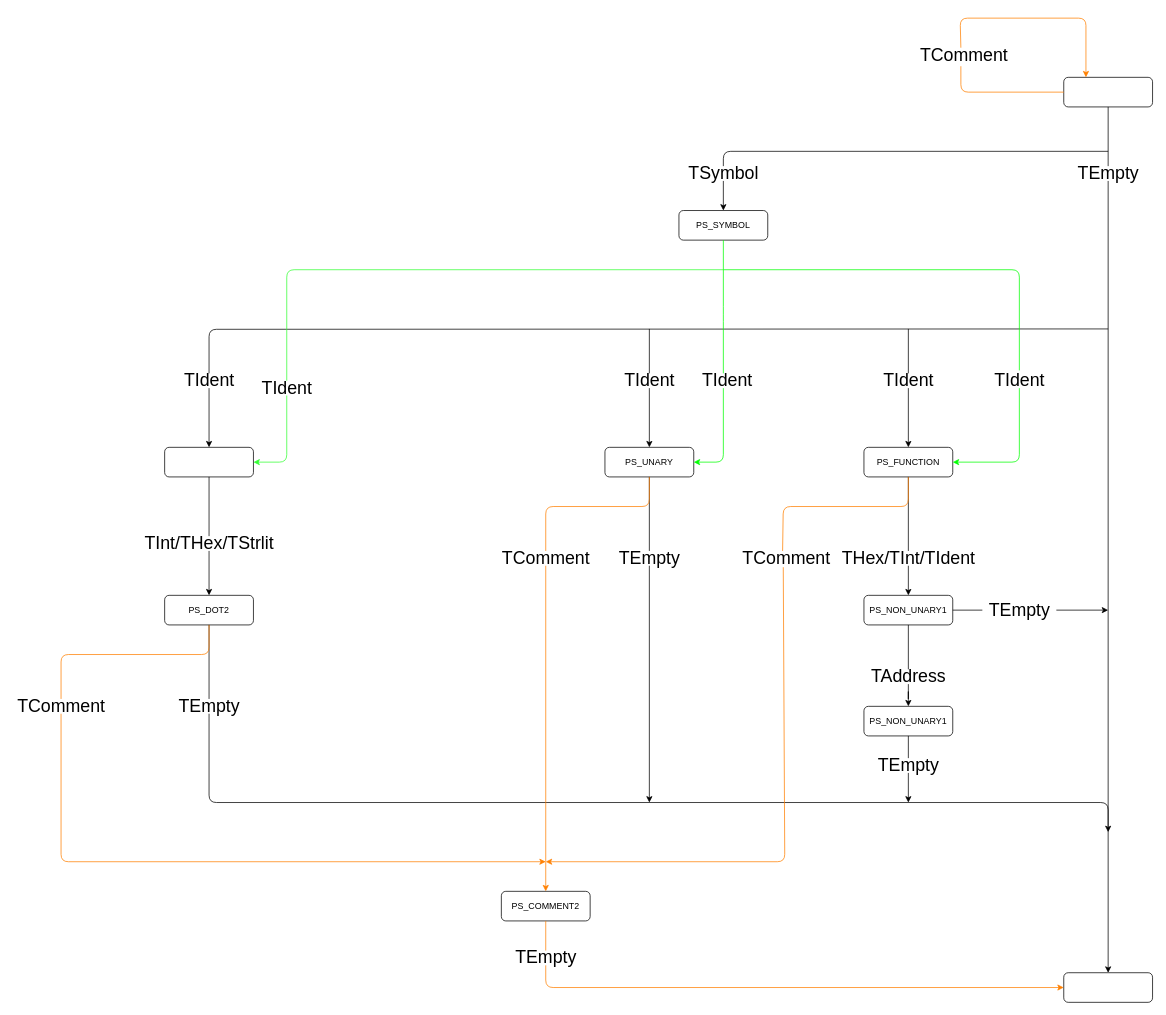
The diagram is 1166 pixels wide and 1015 high, and some of its shapes have lost their labels. The centre of each missing label's shape, as x and y in pixels:
PS_DOT1: (208,462)
PS_FINISH: (1108,987)
PS_START: (1108,92)
